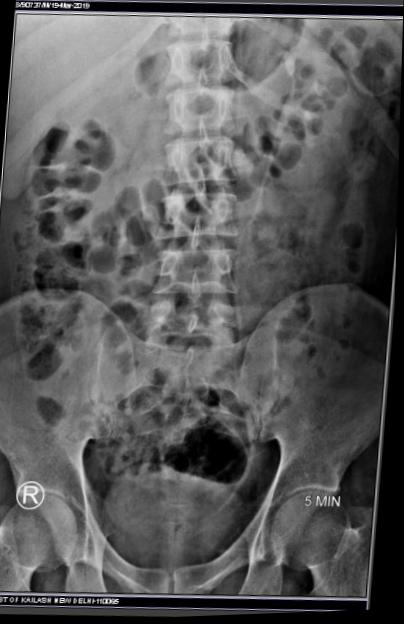bladder: (89, 460, 256, 578)
vertebrae: (161, 84, 238, 137)
